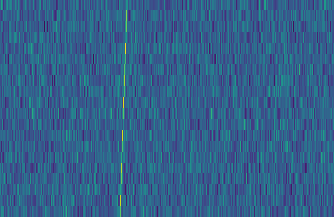signal: (114, 0, 130, 217)
